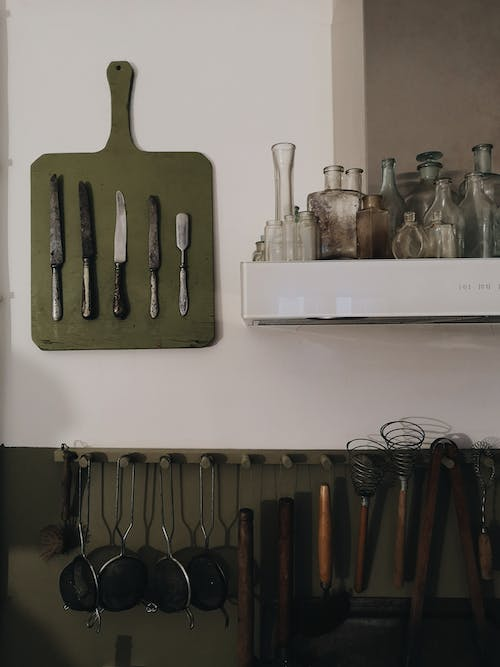knife: (47, 171, 67, 322), (76, 178, 96, 320), (110, 188, 131, 321), (146, 194, 161, 320), (174, 211, 191, 318)
